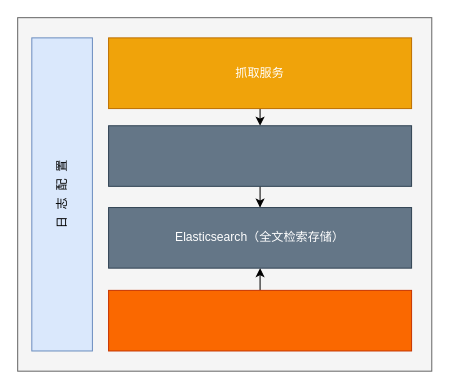
Image size: 449x389. Some labels were removed from this diagram. Here are the shapes that lost their labels. From the top down, the centre of each, then its label:
point 260,155: 日志格式化
point 260,320: 日志检索展示
